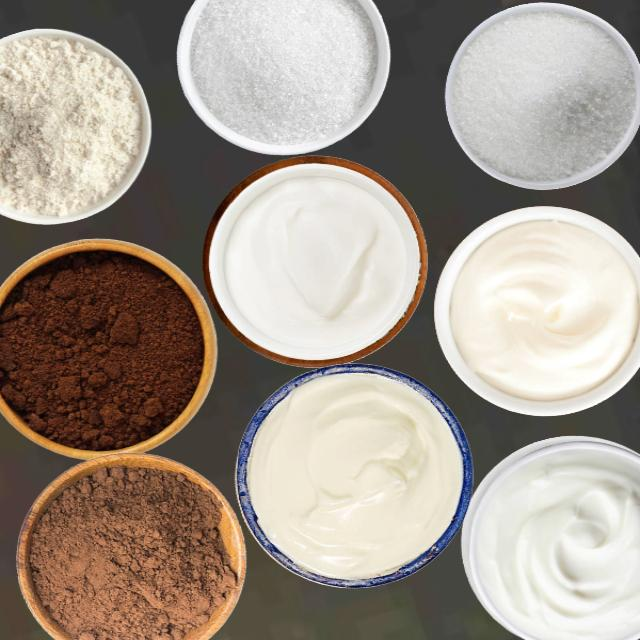Cocoa: (21, 458, 241, 639)
Coffee: (0, 246, 206, 451)
Flour: (0, 33, 140, 217)
Sugar: (449, 9, 636, 181), (189, 0, 375, 146)
